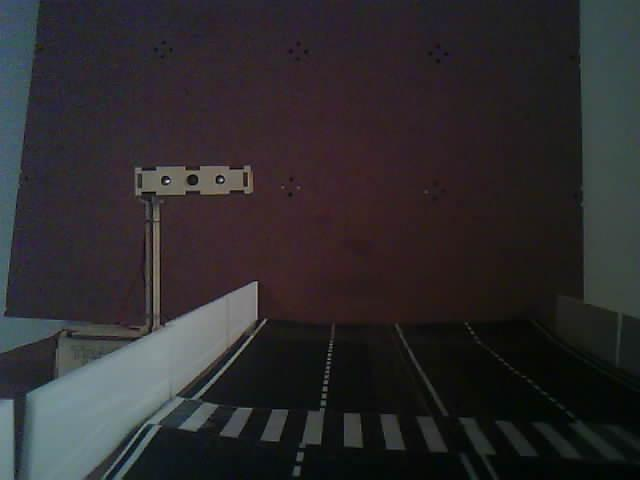crosswalk: (120, 388, 640, 480)
no: (117, 139, 257, 373)
